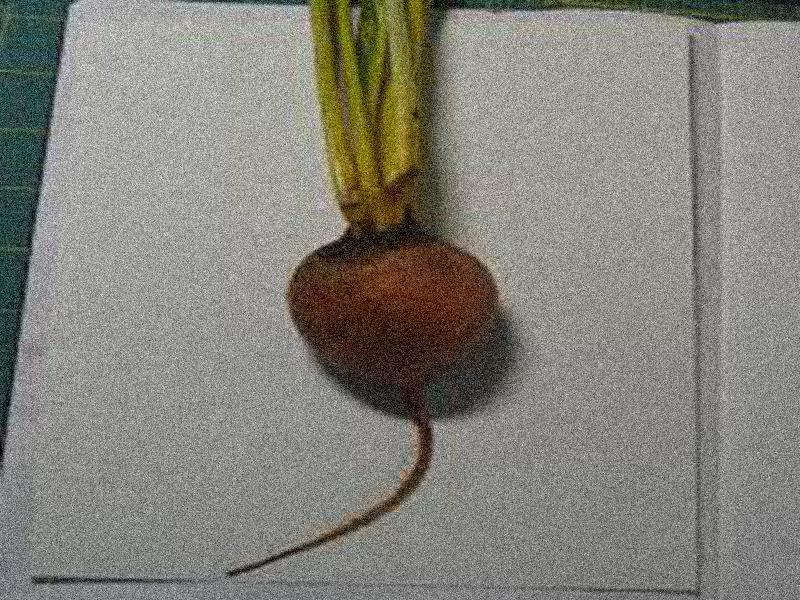Beet: (229, 5, 496, 576)
